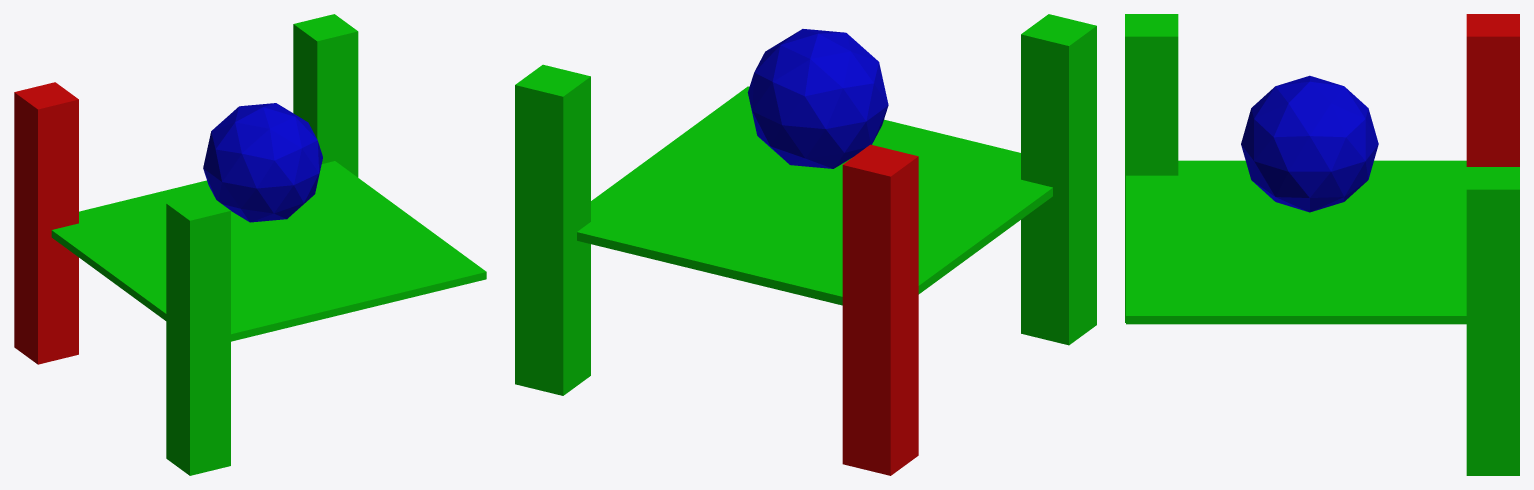
Rendered from hedron.obj.
The picture shows the model from 3 angles, left to right: view 1: azimuth 30°, elevation 25°; view 2: azimuth 150°, elevation 25°; view 3: azimuth 270°, elevation 25°; orthographic projection. The views are drawn at different scales.
Visible parts, largest first — view 1: Cube_Cube.001, Cube.006, Cube.004, Icosphere, Cube.001_Cube; view 2: Cube_Cube.001, Cube.004, Cube.001_Cube, Cube.006, Icosphere; view 3: Cube_Cube.001, Cube.001_Cube, Icosphere, Cube.006, Cube.004.
Part boxes in pixels (x1,y1,x2,y2): Cube_Cube.001: (51, 161, 486, 341); Cube.006: (166, 193, 230, 475); Cube.004: (14, 82, 78, 364); Icosphere: (203, 103, 322, 222); Cube.001_Cube: (293, 14, 358, 177); Cube_Cube.001: (577, 86, 1052, 305); Cube.004: (842, 144, 918, 475); Cube.001_Cube: (515, 64, 590, 395); Cube.006: (1021, 14, 1096, 345); Icosphere: (747, 29, 888, 168); Cube_Cube.001: (1126, 160, 1466, 324); Cube.001_Cube: (1466, 167, 1519, 475); Icosphere: (1241, 75, 1378, 212); Cube.006: (1125, 14, 1178, 322); Cube.004: (1466, 14, 1519, 166).
Bounding box in the file's own units: 9.04 × 7.3 × 8.59.
